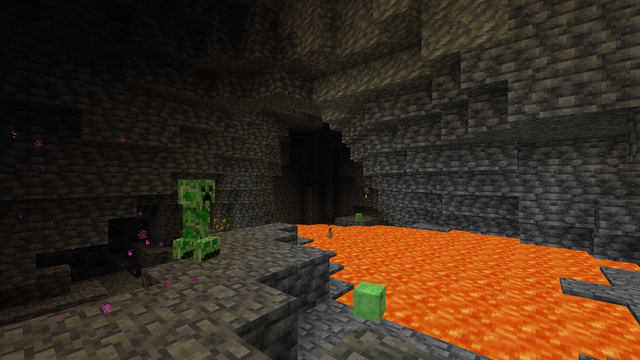creepers: (176, 175, 217, 261)
slimes: (351, 279, 387, 323), (355, 213, 362, 219)
